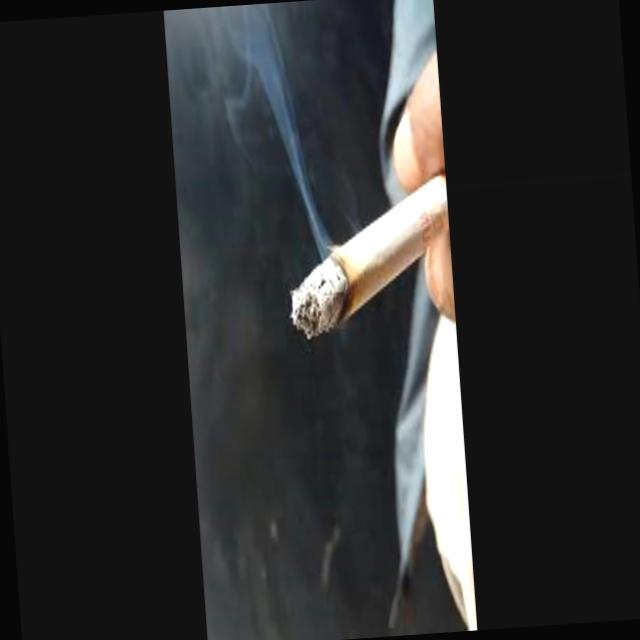cigarette: (274, 101, 457, 372)
